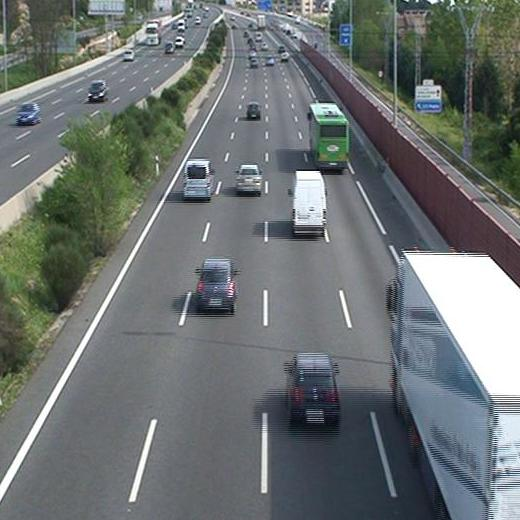bus: (306, 101, 350, 170)
car: (284, 352, 343, 427), (194, 258, 236, 308), (234, 163, 265, 192), (246, 102, 261, 121), (265, 54, 276, 66), (248, 57, 258, 68)
van: (289, 169, 326, 237), (183, 161, 215, 197)
